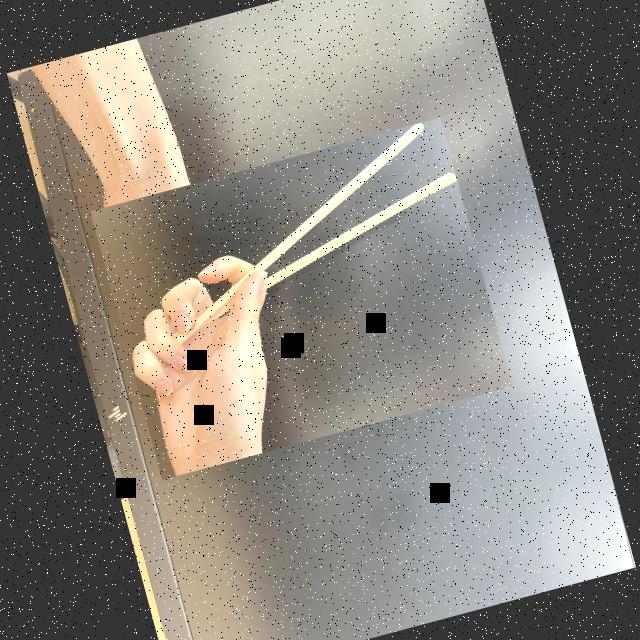stick: (88, 118, 510, 480)
